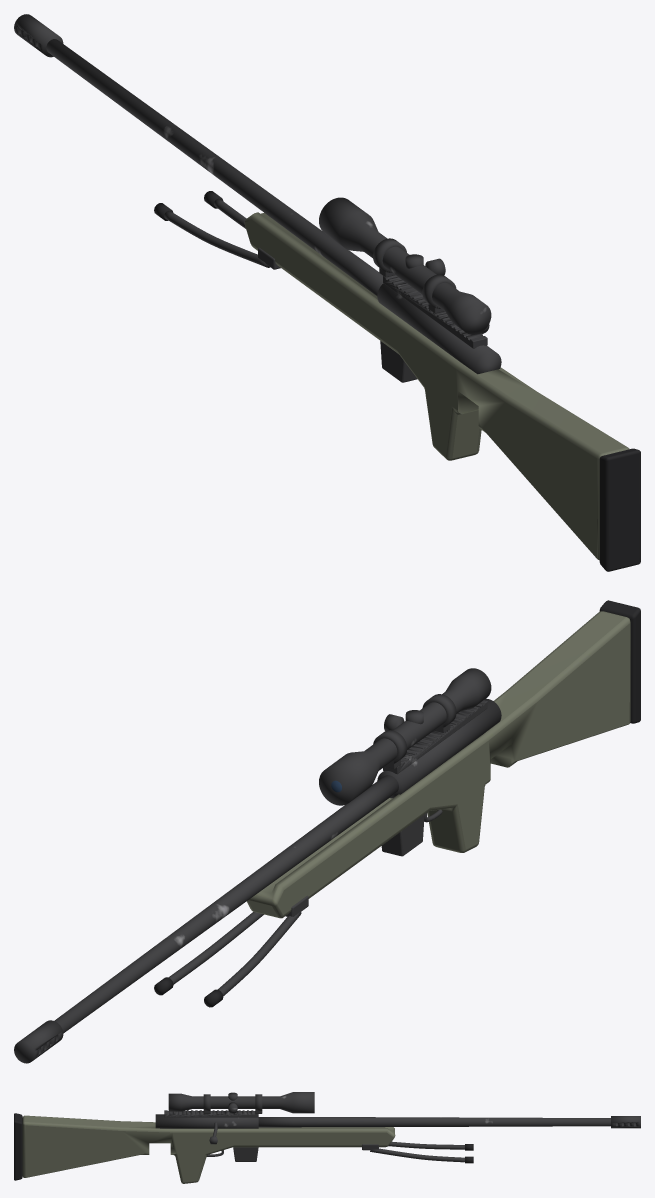
The model's file is Weapon_Sniper.glb.
3 renders of one model, top to bottom at view 1: azimuth 30°, elevation 25°; view 2: azimuth 150°, elevation 25°; view 3: azimuth 270°, elevation 25°, orthographic. The views are drawn at different scales.
Parts seen in each view (by area): view 1: Weapon_Sniper_Game; view 2: Weapon_Sniper_Game; view 3: Weapon_Sniper_Game.
Boxes of the visible parts, left/top/right/bottom form: Weapon_Sniper_Game: left=14, top=14, right=640, bottom=571; Weapon_Sniper_Game: left=14, top=600, right=640, bottom=1063; Weapon_Sniper_Game: left=14, top=1092, right=640, bottom=1183.
Bounding box in the file's own units: 0.118 × 0.2253 × 1.46.
Materials: 1 (1 with a texture image).
